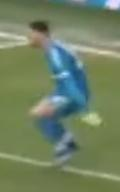goalkeeper: (18, 9, 119, 176)
